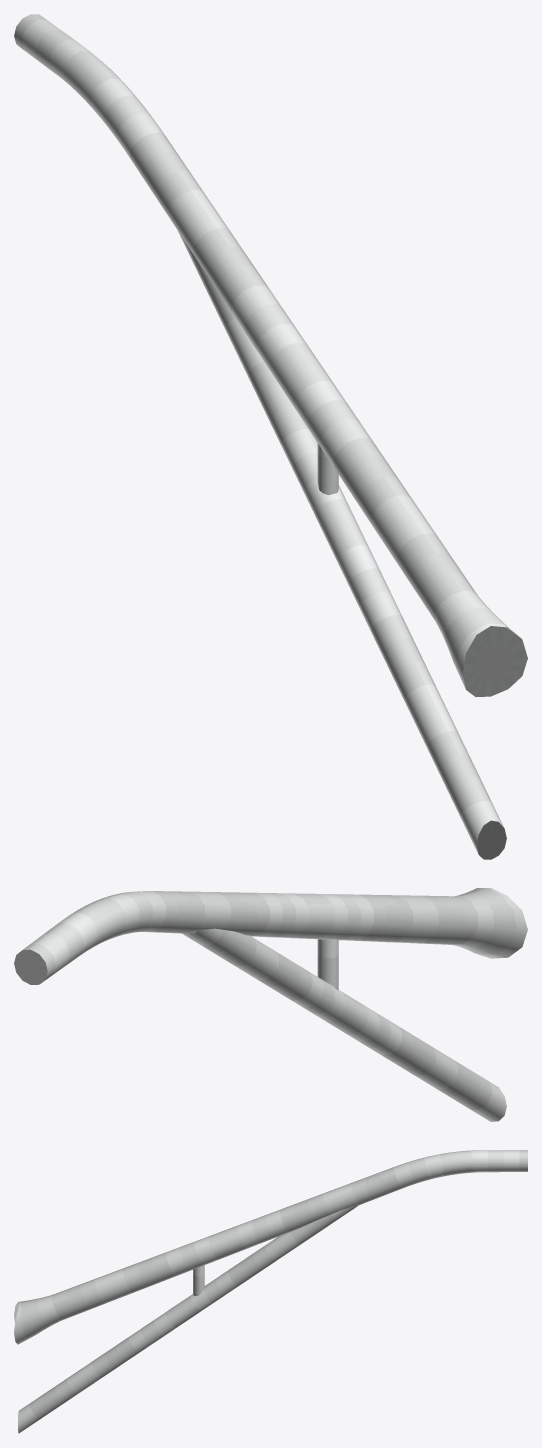
File: luminairearm_truss10ftstraight_inv.obj
3 renders of one model, top to bottom at view 1: azimuth 30°, elevation 25°; view 2: azimuth 150°, elevation 25°; view 3: azimuth 270°, elevation 25°, orthographic. The views are drawn at different scales.
Visible parts, largest first — view 1: luminairearm_truss10ftstraight_inv; view 2: luminairearm_truss10ftstraight_inv; view 3: luminairearm_truss10ftstraight_inv.
Boxes of the visible parts, x1,y1,x2,y2 form: luminairearm_truss10ftstraight_inv: (14,14,527,859); luminairearm_truss10ftstraight_inv: (14,888,527,1121); luminairearm_truss10ftstraight_inv: (14,1150,527,1433).
Bounding box in the file's own units: 0.081 × 0.6051 × 1.
